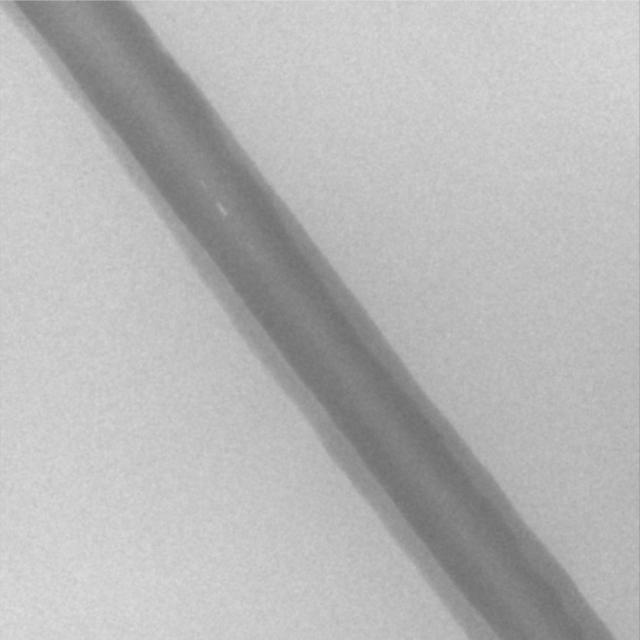air hole: (213, 200, 225, 216)
